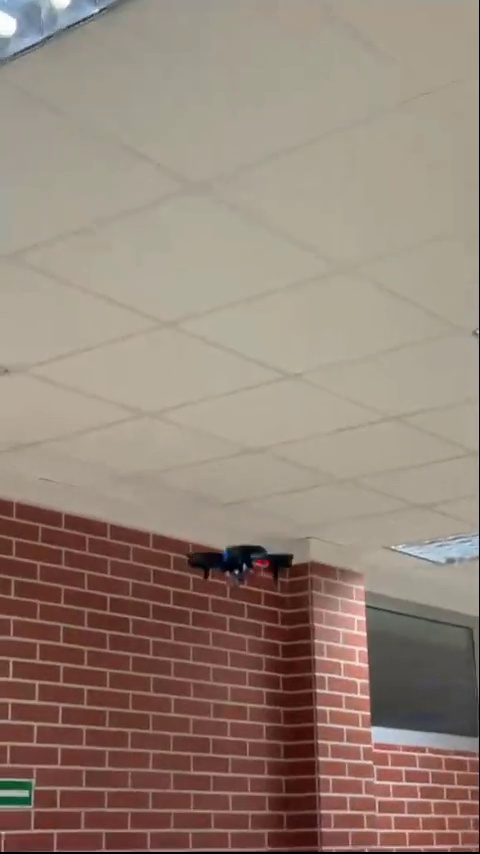drone: (192, 542, 293, 588)
